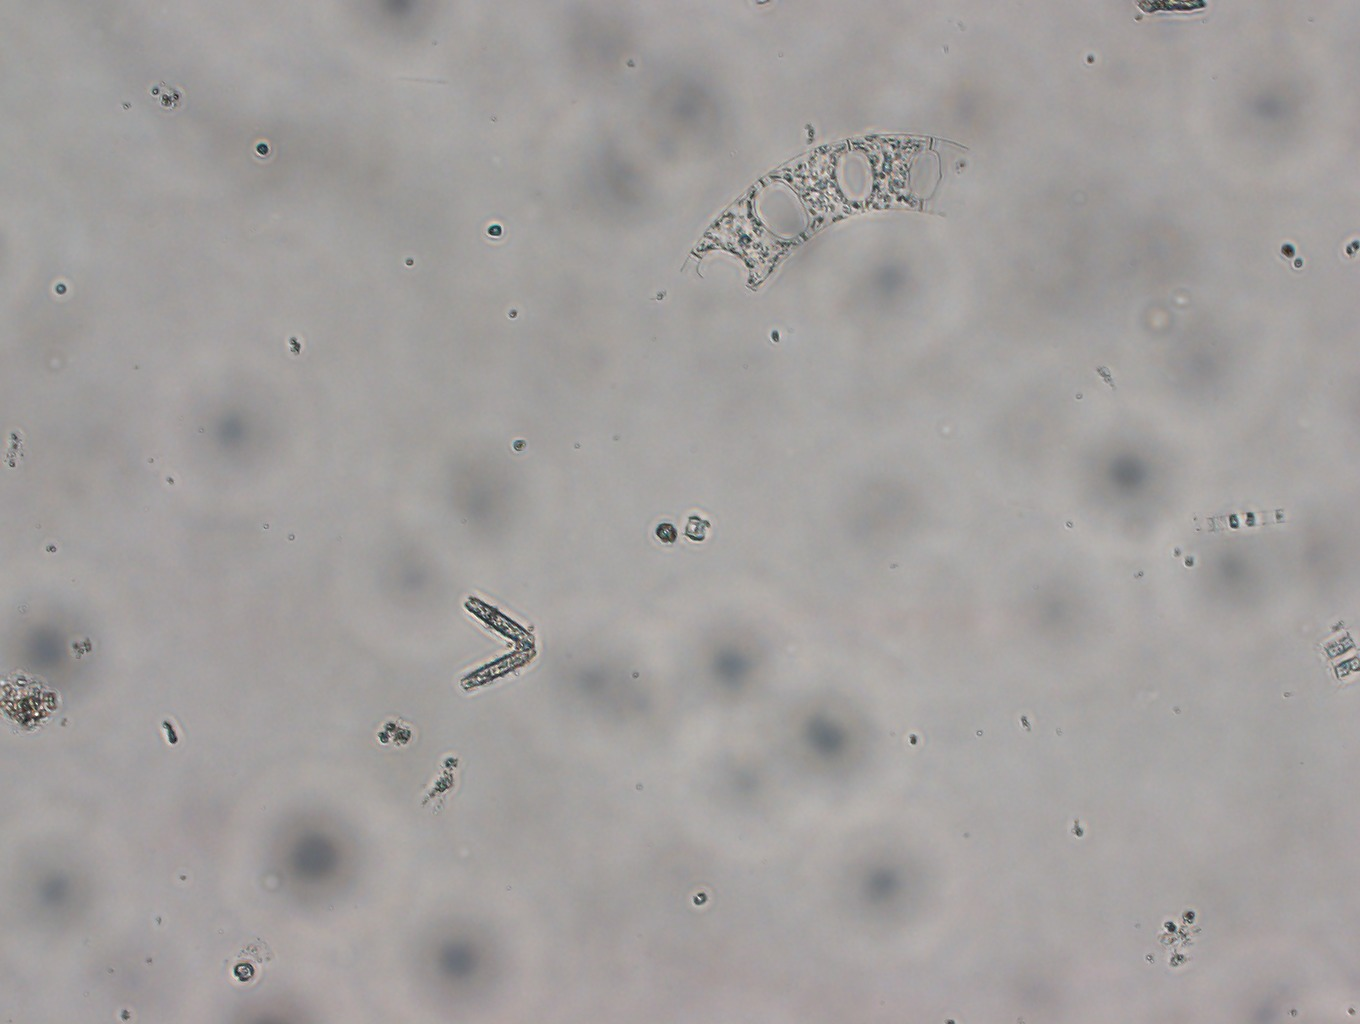eucampia: (677, 123, 979, 305)
skeletonema: (1185, 502, 1301, 546)
thalassionema nitzschioides: (446, 584, 542, 696)
